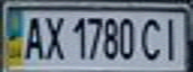0: (118, 15, 139, 62)
1: (66, 13, 87, 60)
7: (84, 14, 103, 61)
8: (103, 15, 121, 61)
A: (21, 12, 45, 61)
C: (139, 15, 166, 63)
I: (157, 15, 187, 62)
X: (39, 12, 66, 61)
